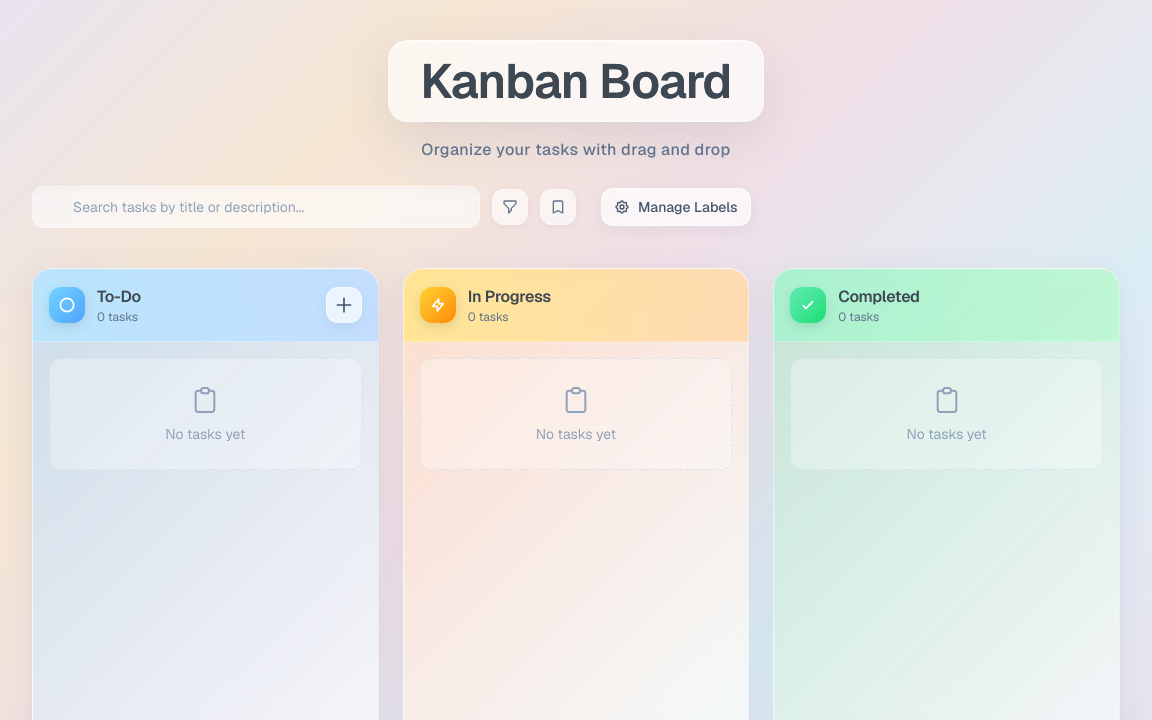
Test: Kanban Board Integration Tests › Create Task Workflow › should show error message when task creation fails
Step 1. Click the button named "add new task" → (344, 305), box x1=326 y1=287 x2=362 y2=323
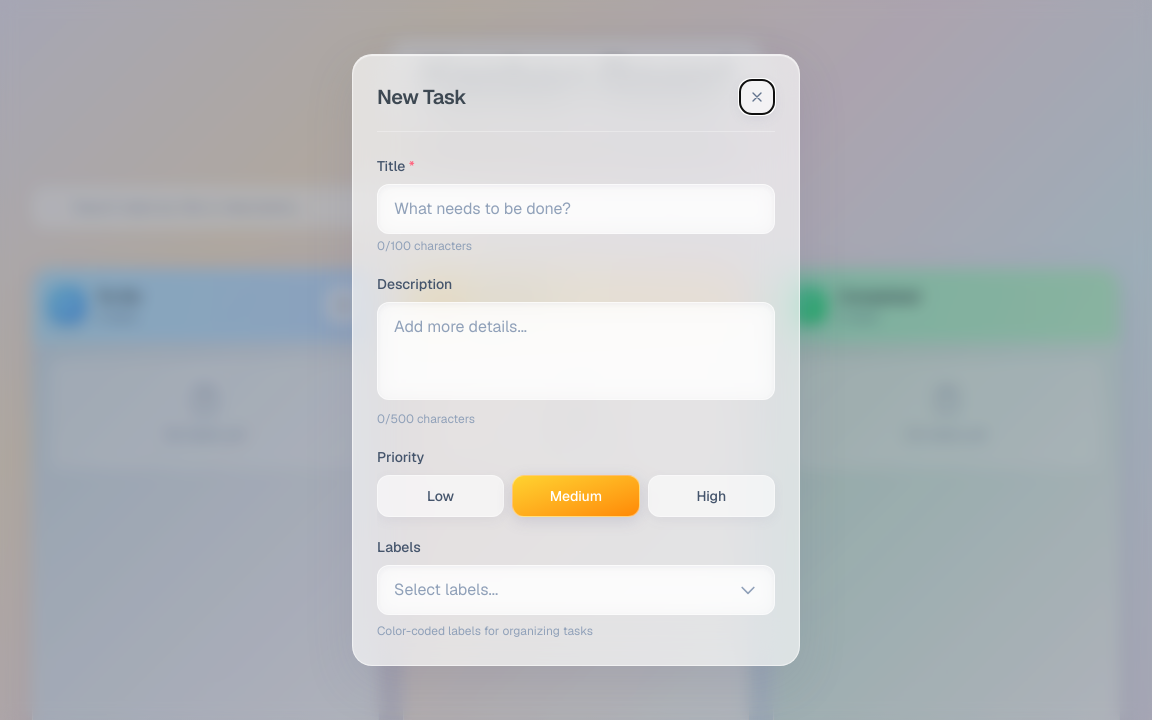
Now the dialog is shown, box x1=352 y1=54 x2=800 y2=666
Step 2. Type "Test Task" into the field labelled "Title *" → (576, 209), box x1=377 y1=184 x2=775 y2=234
(page scrolled)
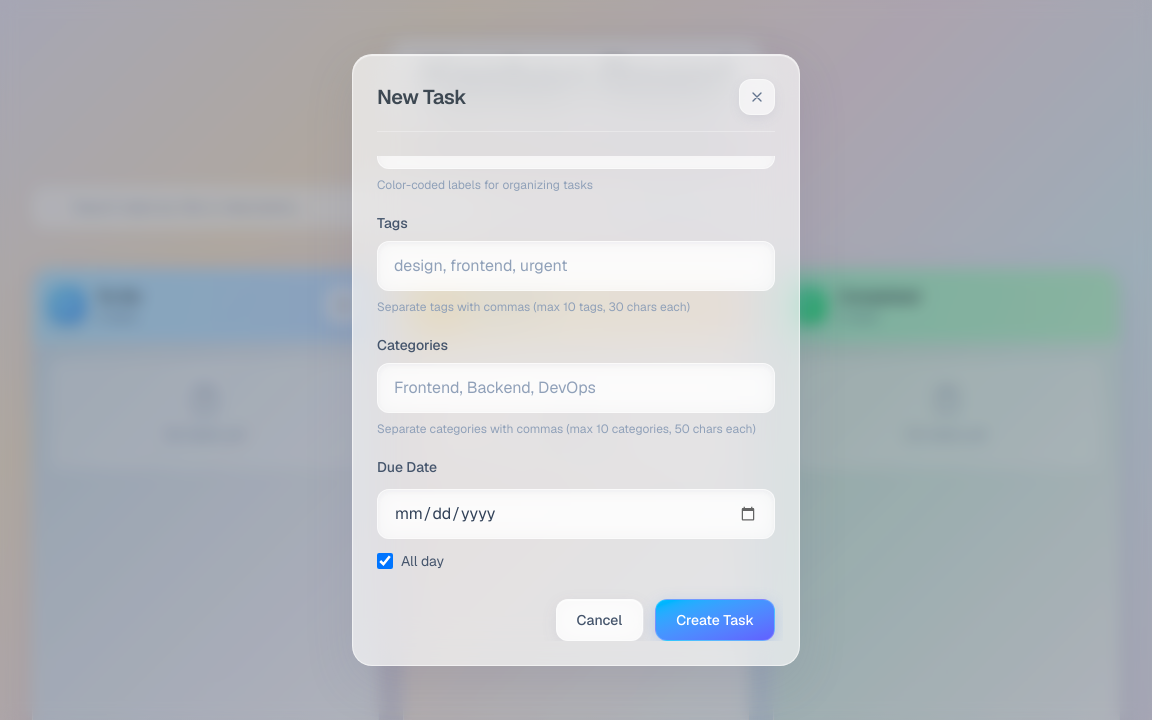
Step 3. Click the button "Create Task" → (715, 620), box x1=655 y1=599 x2=775 y2=641
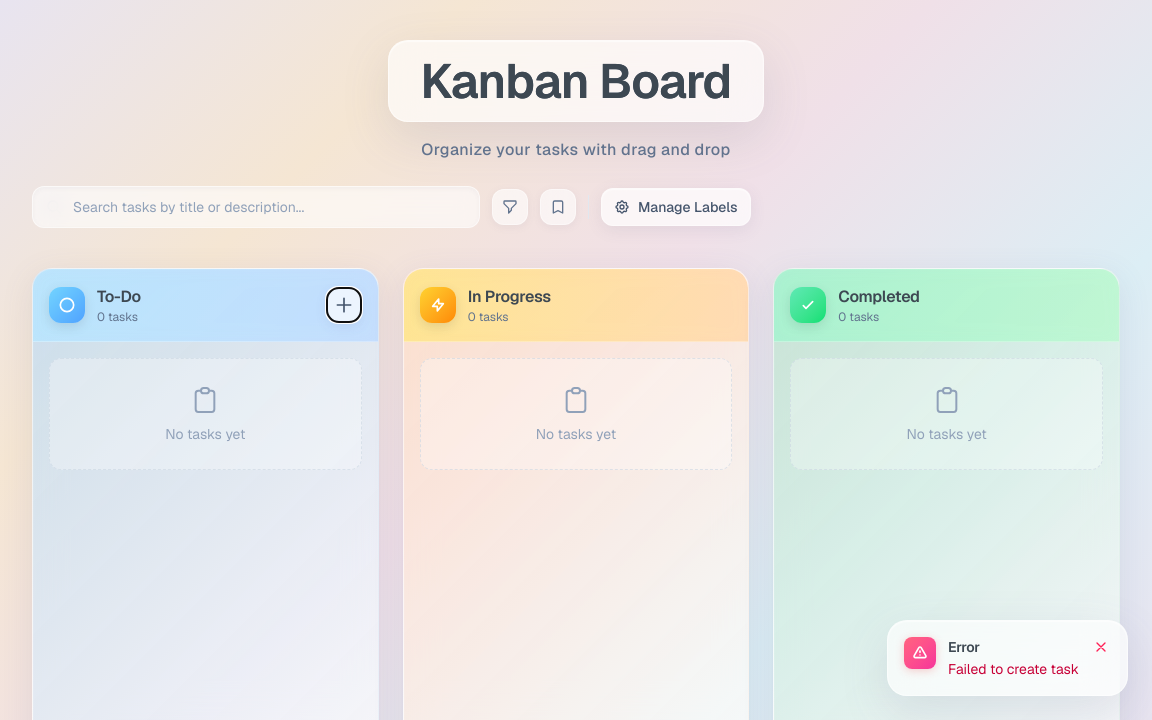
Now the message "Error Failed to create task" is shown, box x1=887 y1=620 x2=1128 y2=696
Now the text "Failed to create task" is shown, box x1=948 y1=659 x2=1079 y2=679
